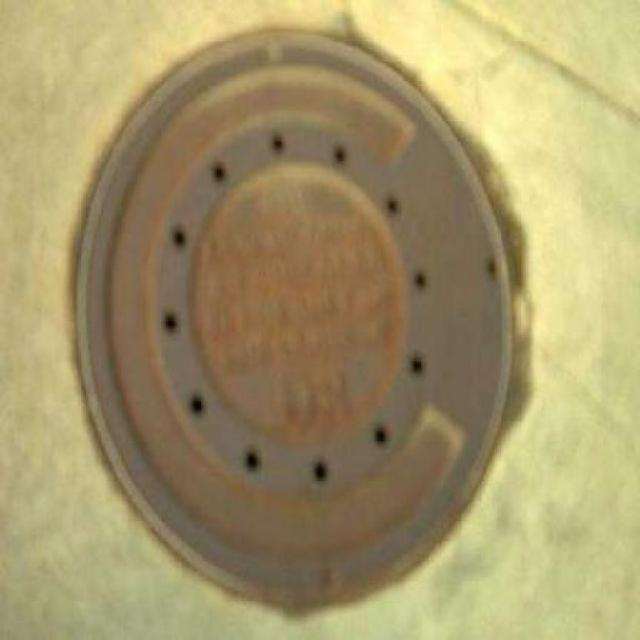Manhole: (66, 22, 523, 620)
